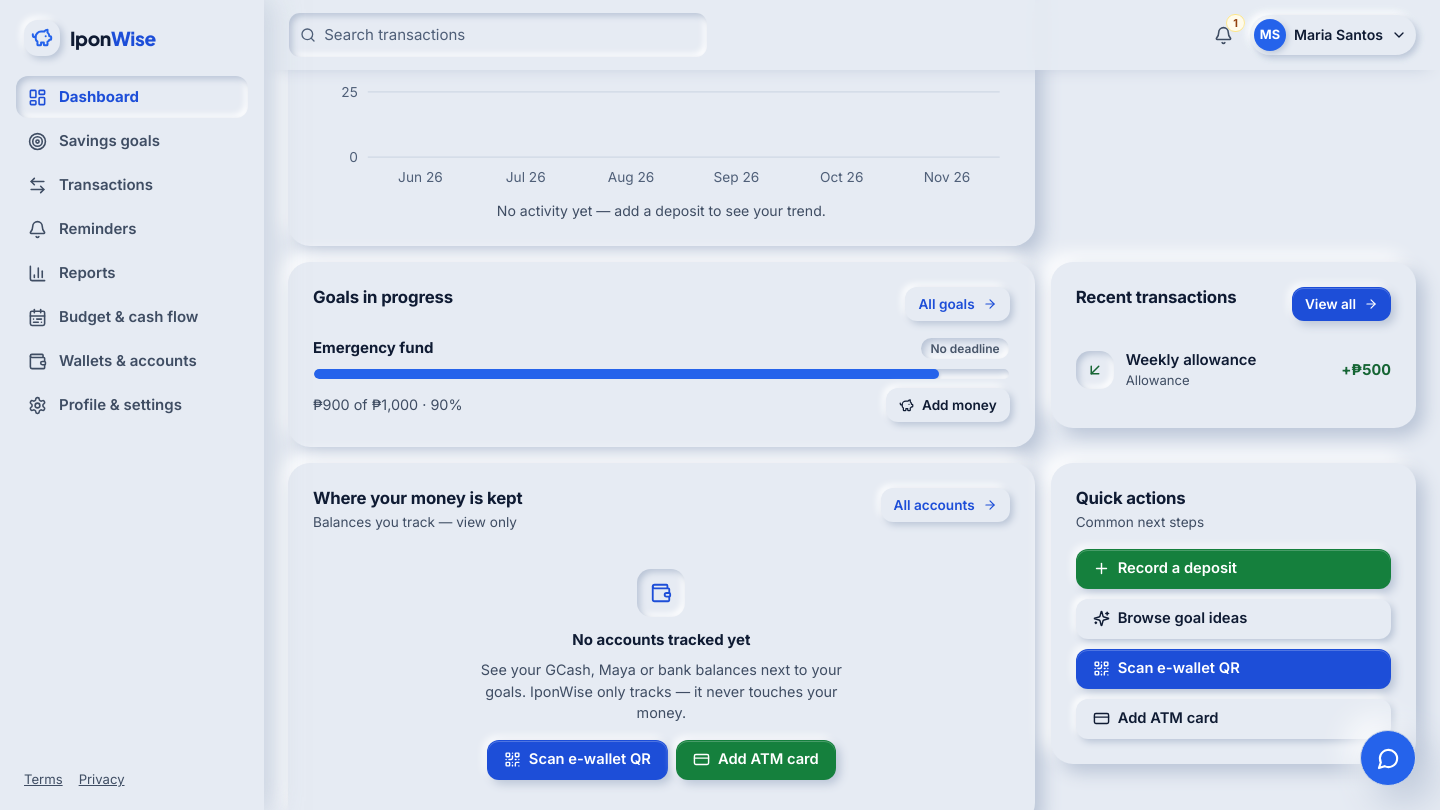
create / update / delete feedback › a rejected goal contribution shows the reason inline, no success toast, and keeps the dialog open
(page scrolled)
Click the button "Add money": [948, 405] box [886,388,1010,422]
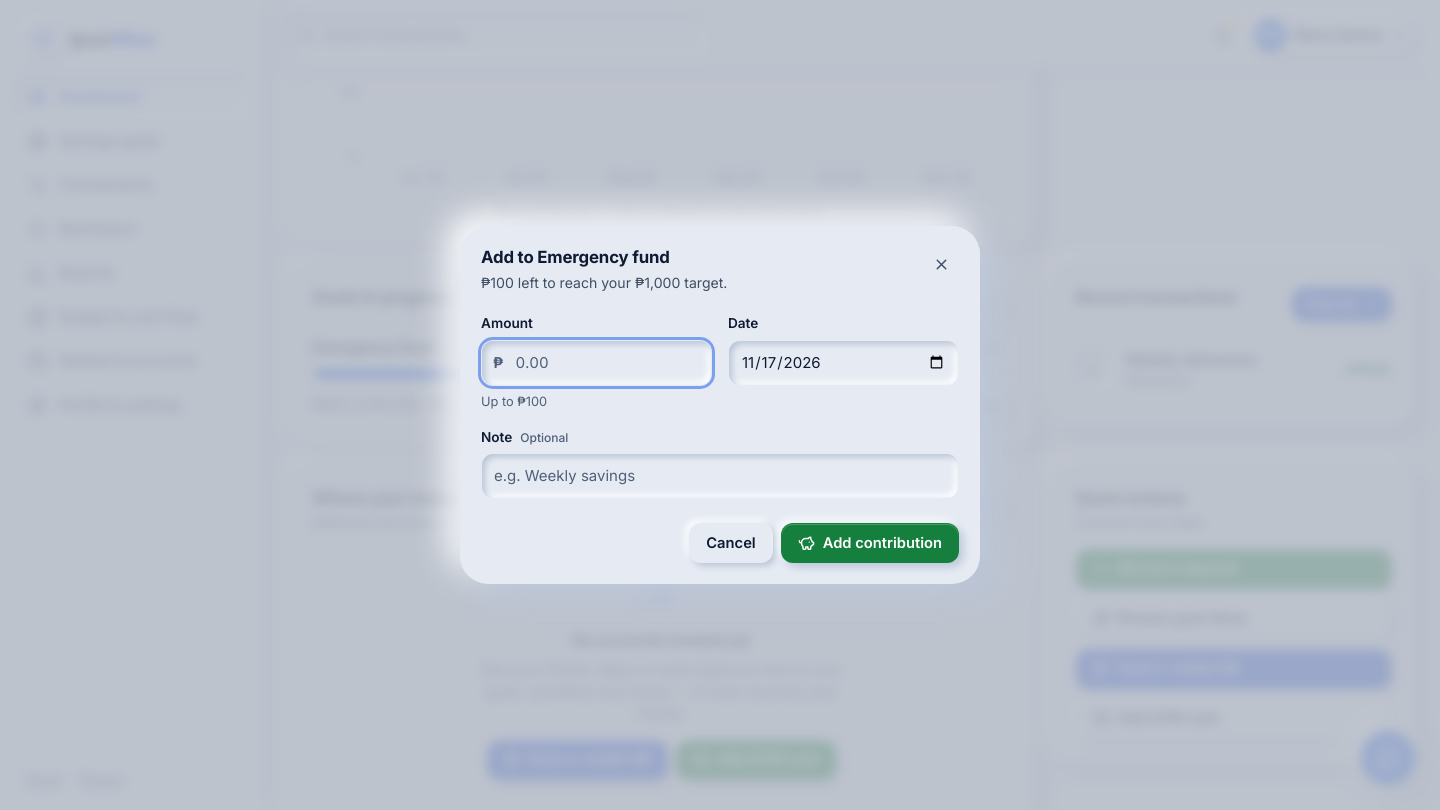
In the number field labelled "Amount": [596, 363] box [481,340,712,386], type "50"
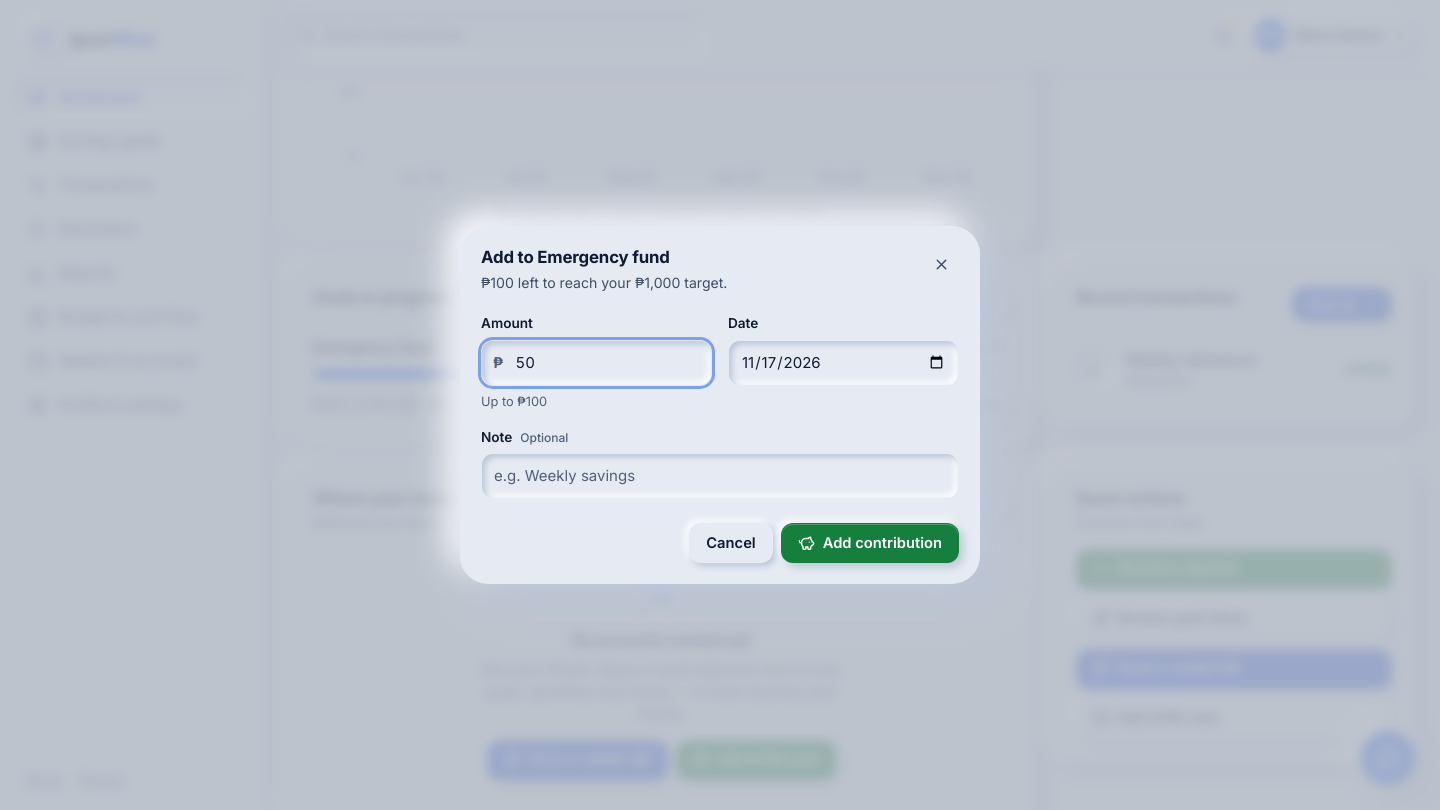
Click the button "Add contribution": [870, 544] box [781,524,959,564]
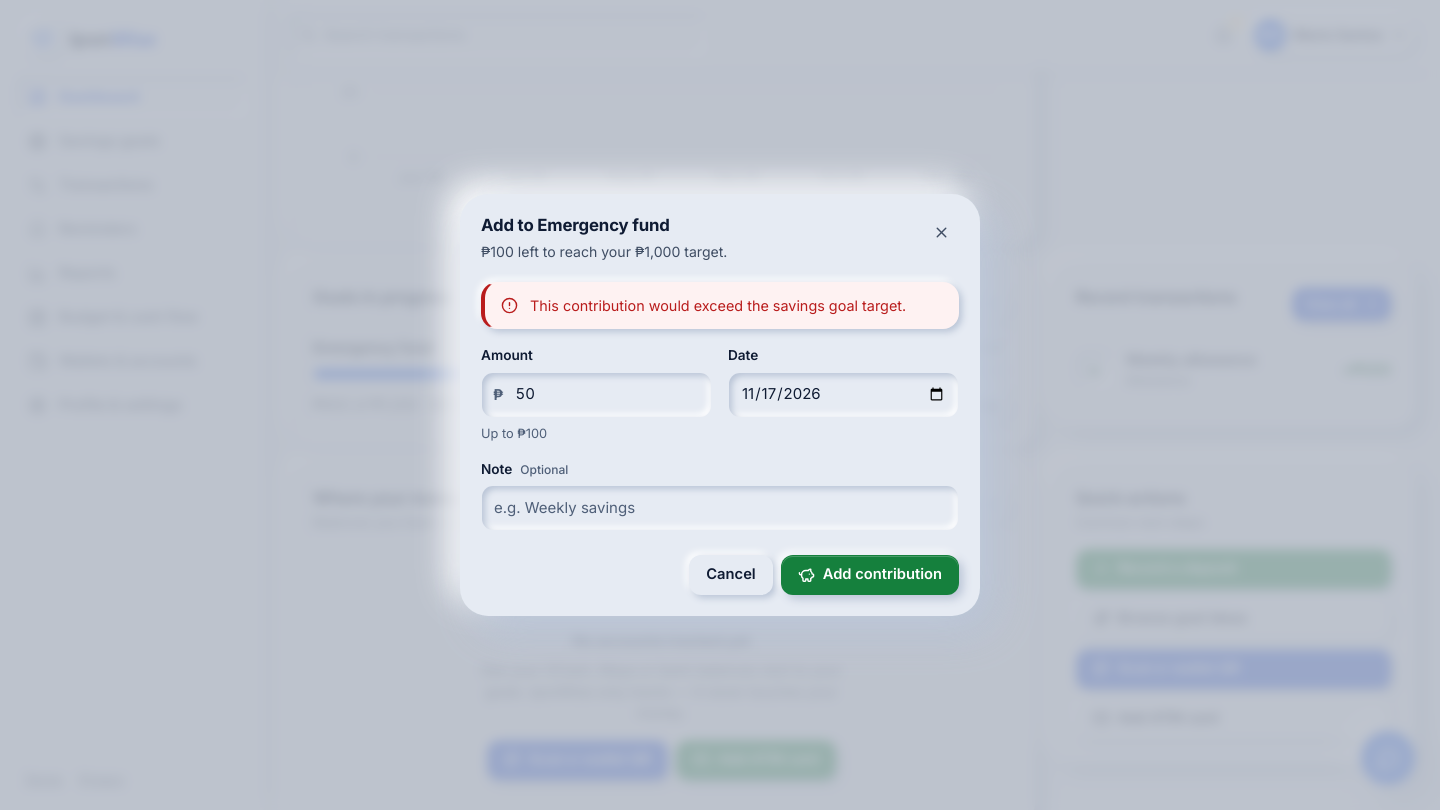
Now the dialog is shown, box [460,194,980,616]
Now the text "This contribution would exceed the savings goal target." is shown, box [530,295,906,316]
